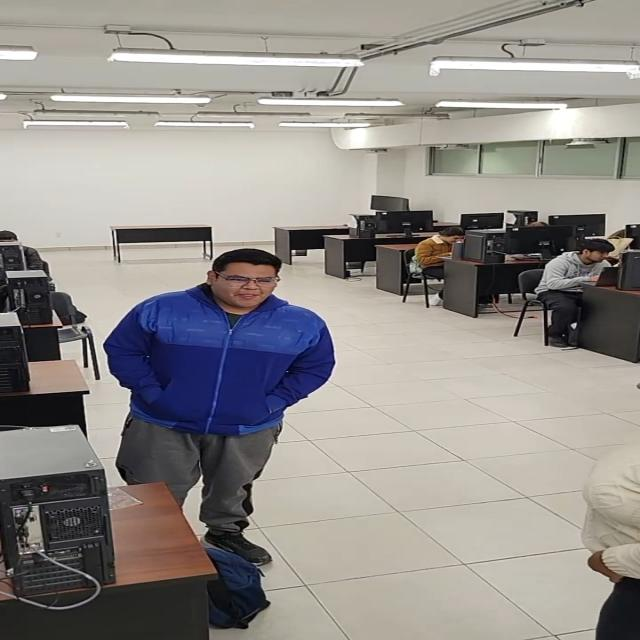Persona: (118, 233, 334, 600)
